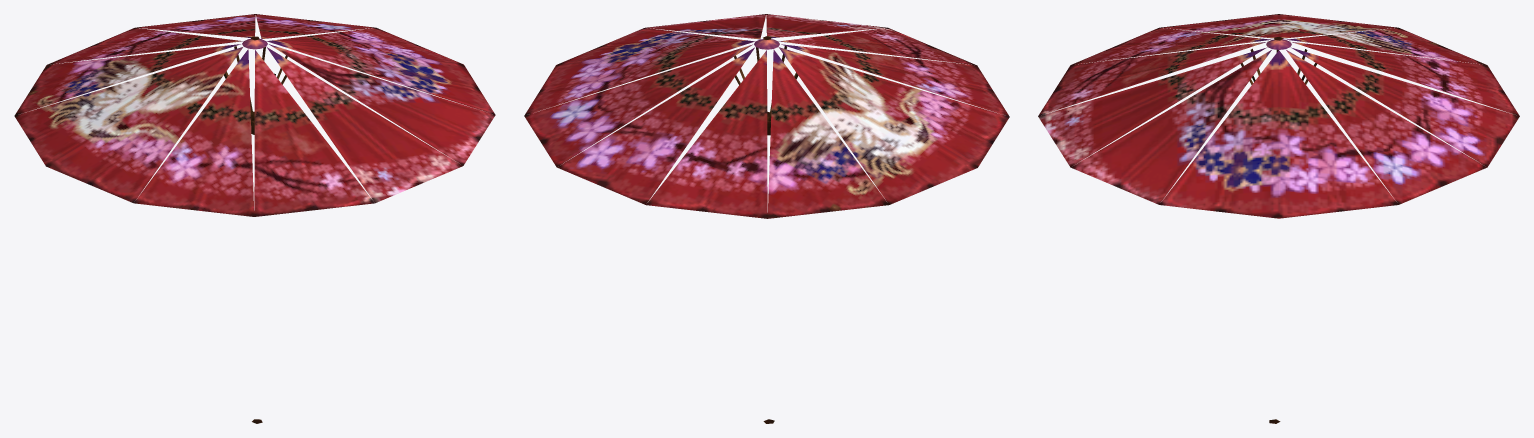
The model's file is Bat_japanWagasa.obj.
The picture shows the model from 3 angles, left to right: view 1: azimuth 30°, elevation 25°; view 2: azimuth 150°, elevation 25°; view 3: azimuth 270°, elevation 25°; orthographic projection.
Visible parts, largest first — view 1: Bat_japanWagasa_tri; view 2: Bat_japanWagasa_tri; view 3: Bat_japanWagasa_tri.
Part boxes in pixels (left/top/right/bottom): Bat_japanWagasa_tri: left=14, top=14, right=495, bottom=423; Bat_japanWagasa_tri: left=524, top=14, right=1009, bottom=423; Bat_japanWagasa_tri: left=1038, top=14, right=1519, bottom=423.
Bounding box in the file's own units: 1.22 × 1.06 × 1.21.
Materials: 1 (1 with a texture image).
